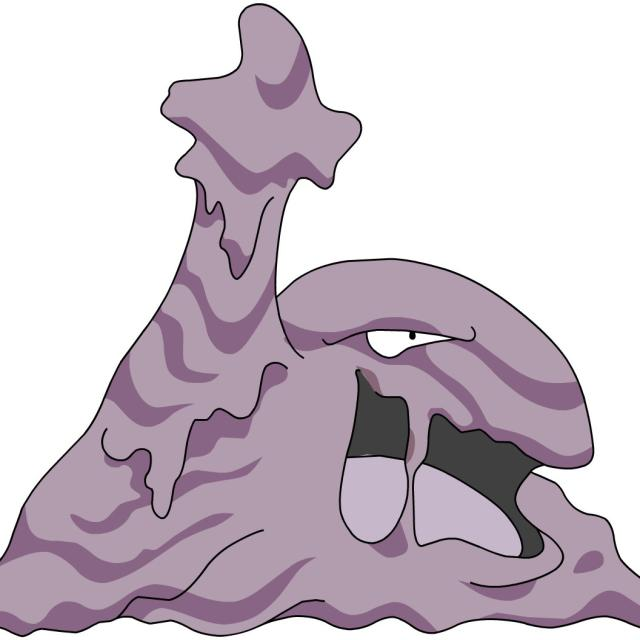Muk: (96, 254, 605, 632)
